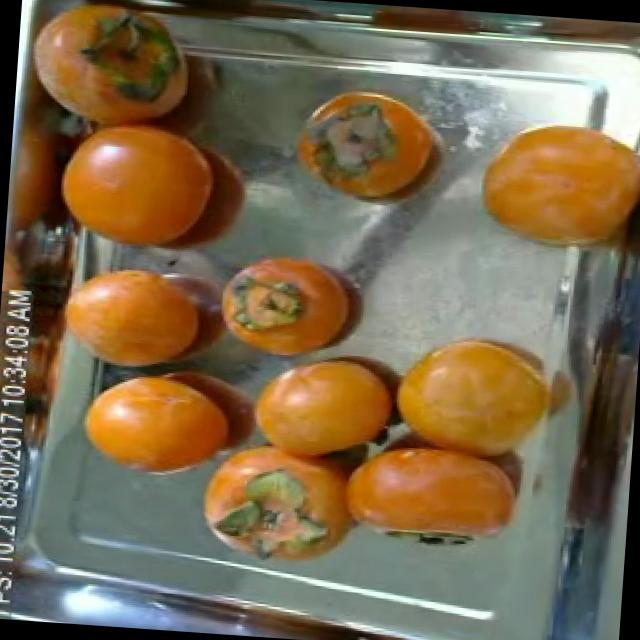Fruit: (372, 310, 586, 477), (36, 100, 247, 266), (62, 351, 275, 496), (459, 101, 640, 270), (42, 257, 252, 387), (270, 78, 462, 220), (12, 0, 198, 140), (233, 340, 417, 472), (200, 234, 382, 364)
